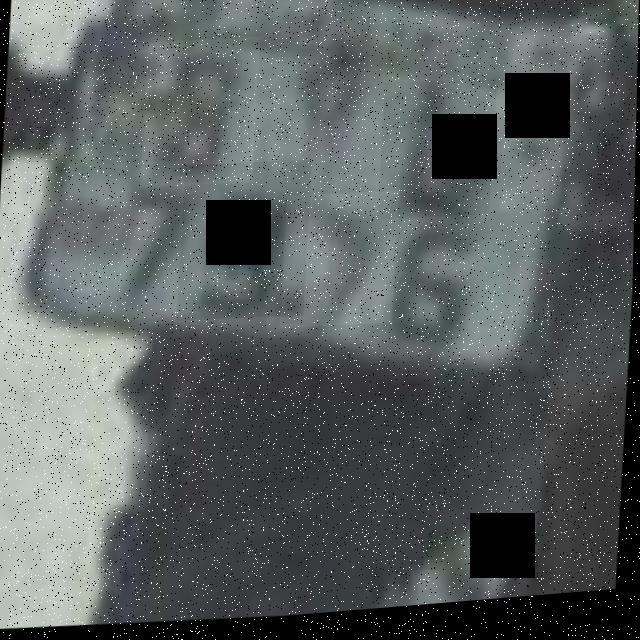6: (367, 214, 498, 358)
7: (77, 158, 210, 336), (280, 193, 400, 337)
9: (178, 160, 312, 328)
B: (140, 37, 260, 194)
J: (378, 82, 498, 229)
P: (268, 49, 387, 201)
